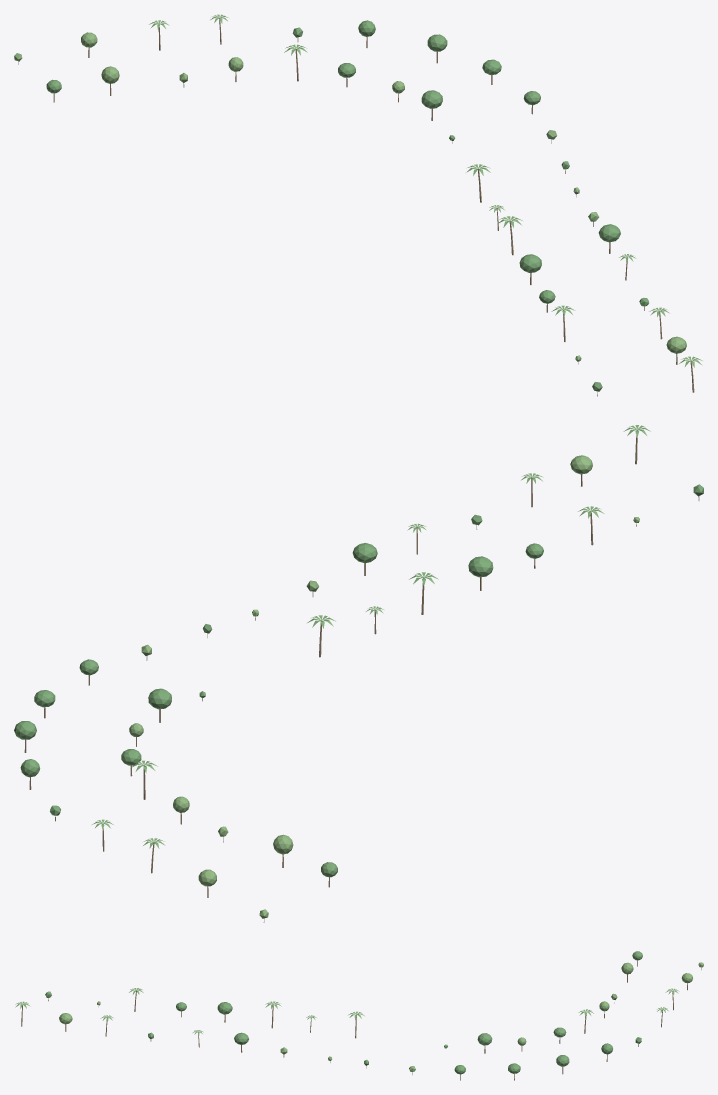
Rendered from nature_6_-8.glb.
The picture shows the model from 3 angles, top to bottom: view 1: azimuth 30°, elevation 25°; view 2: azimuth 150°, elevation 25°; view 3: azimuth 270°, elevation 25°; orthographic projection. The views are drawn at different scales.
Parts seen in each view (by area): view 1: foliage_a, foliage_b, palm_leaf, trunk; view 2: foliage_a, foliage_b, palm_leaf, trunk; view 3: foliage_a, foliage_b, palm_leaf, trunk.
Part boxes in pixels (x1,y1,x2,y2): foliage_a: (46, 20, 649, 391); foliage_b: (14, 32, 686, 361); palm_leaf: (149, 14, 702, 367); trunk: (18, 18, 694, 396); foliage_a: (14, 484, 703, 877); foliage_b: (129, 455, 639, 918); palm_leaf: (92, 425, 650, 848); trunk: (24, 436, 699, 922); foliage_a: (45, 951, 642, 1074); foliage_b: (59, 962, 703, 1071); palm_leaf: (15, 988, 679, 1035); trunk: (21, 960, 701, 1080).
Size of the model in its own units: 92.82 by 8.75 by 228.
